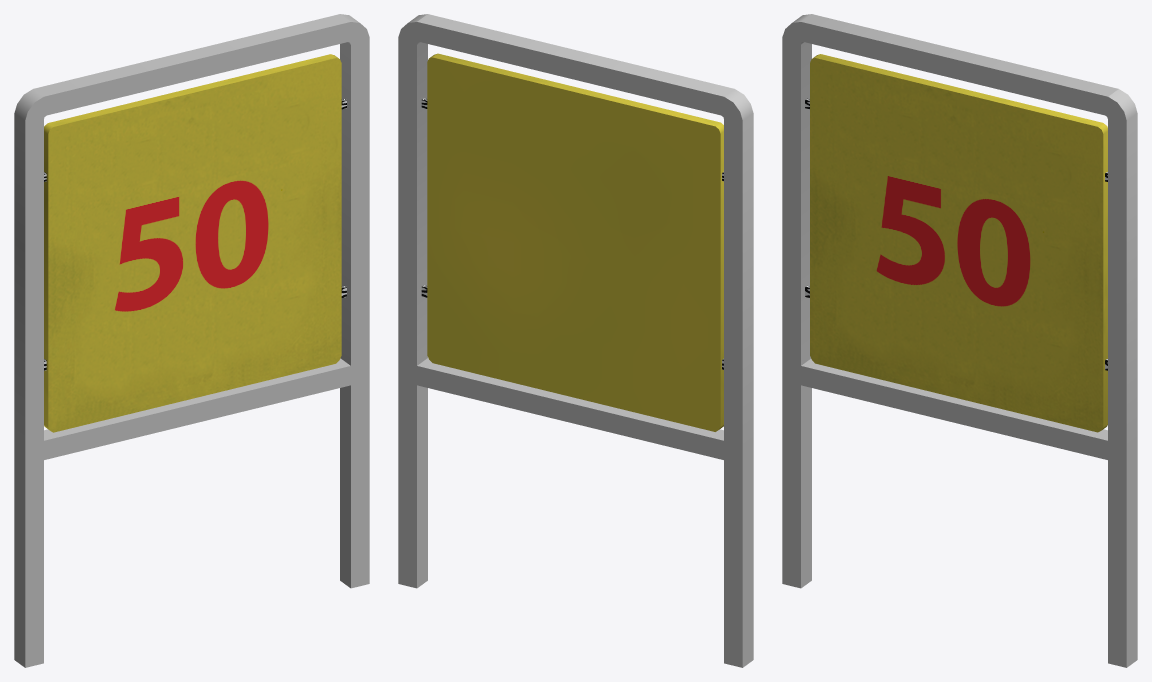
File: Track_Sign_50_Yellow.fbx
3 views of the same model, side by side, from view 1: azimuth 30°, elevation 25°; view 2: azimuth 150°, elevation 25°; view 3: azimuth 330°, elevation 25° (orthographic).
Visible parts, largest first — view 1: Speed_50, Frame; view 2: Speed_50, Frame; view 3: Speed_50, Frame.
Part boxes in pixels (box(x1,y1,x2,y2)): Speed_50: box(44, 54, 346, 432); Frame: box(14, 14, 369, 667); Speed_50: box(421, 53, 723, 431); Frame: box(398, 14, 753, 667); Speed_50: box(805, 54, 1107, 432); Frame: box(782, 14, 1137, 667).
Bounding box in the file's own units: 130 × 204 × 7.
